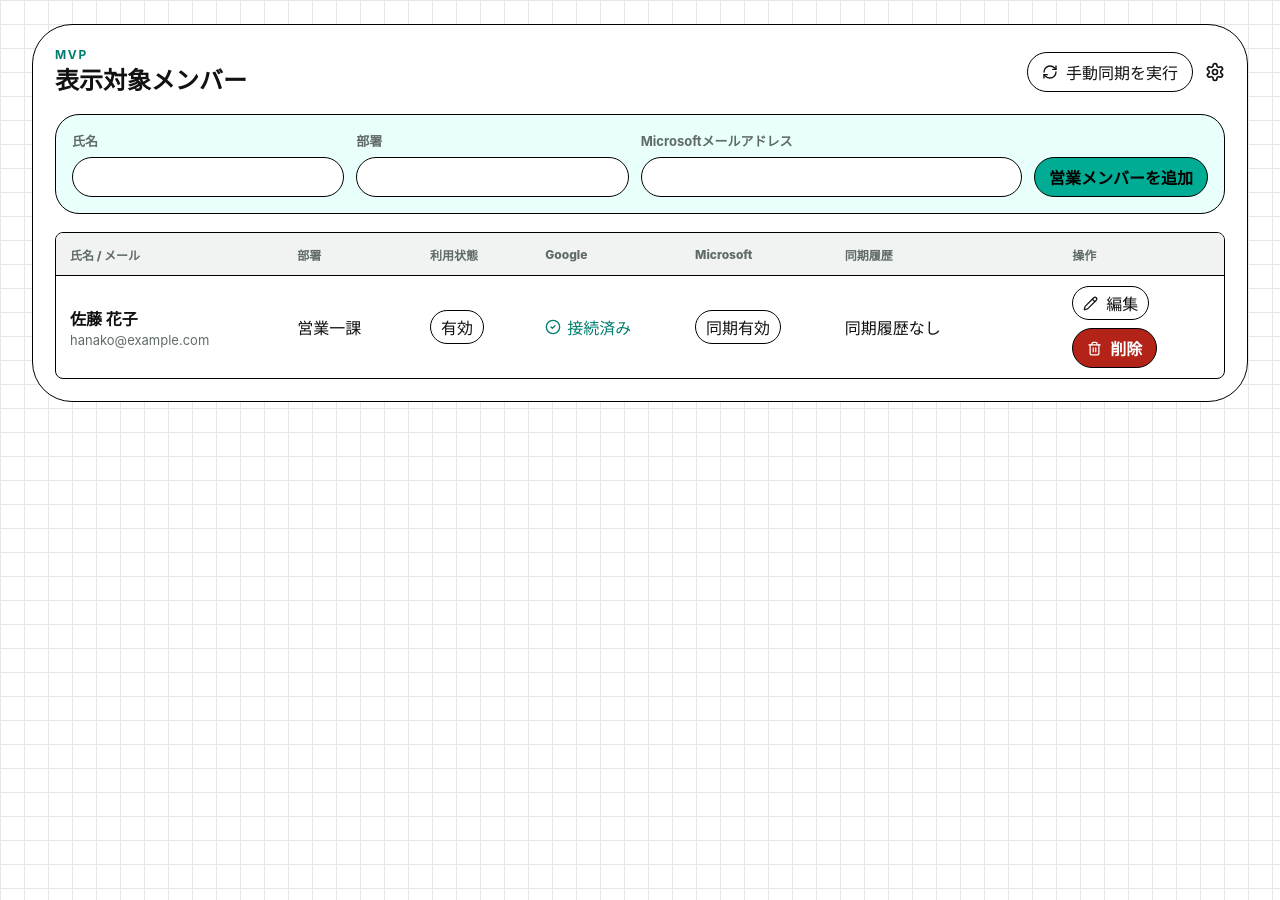
Test: AdminMembers › activeとMicrosoft同期をPATCHで切り替える
Expected: the text "佐藤 花子" is shown, [70,309,138,329]
Step 1. Click the button with aria-label "佐藤 花子を無効化" → (457, 327), box [430,310,484,344]
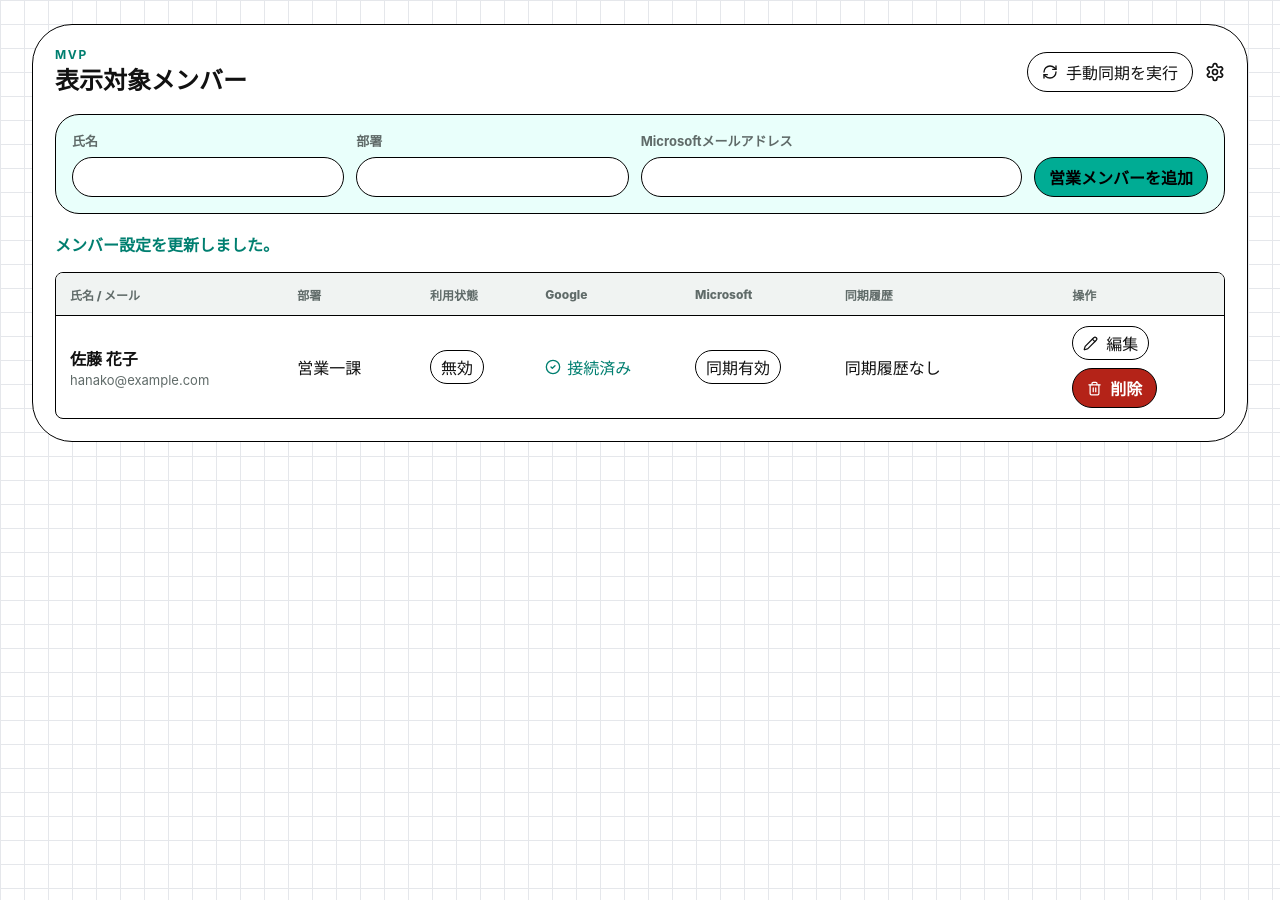
Expected: the button with aria-label "佐藤 花子を有効化" is shown, [430,350,484,384]
Step 2. Click the button with aria-label "佐藤 花子のMicrosoft同期を無効化" → (738, 367), box [695,350,781,384]
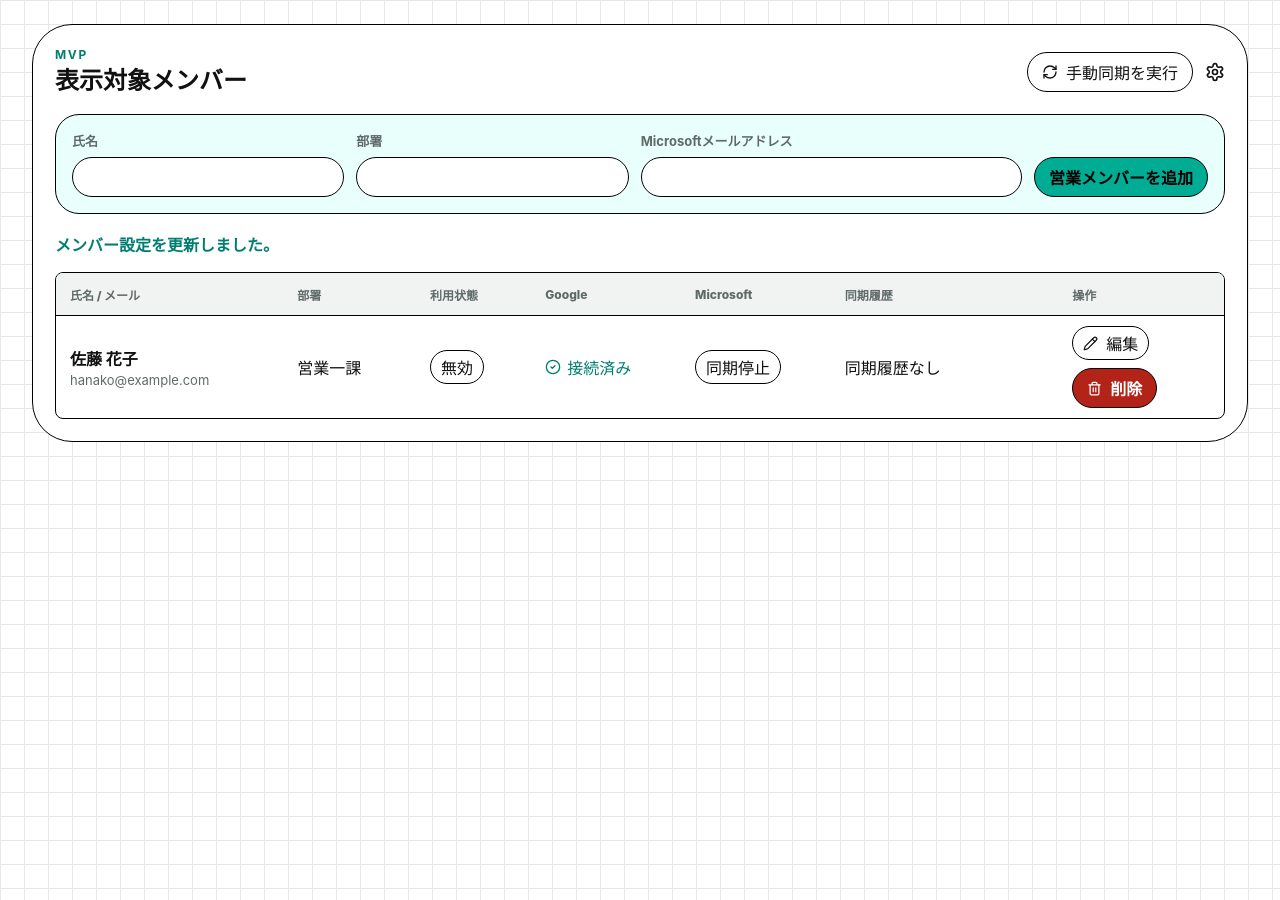
Expected: the button with aria-label "佐藤 花子のMicrosoft同期を有効化" is shown, [695,350,781,384]
